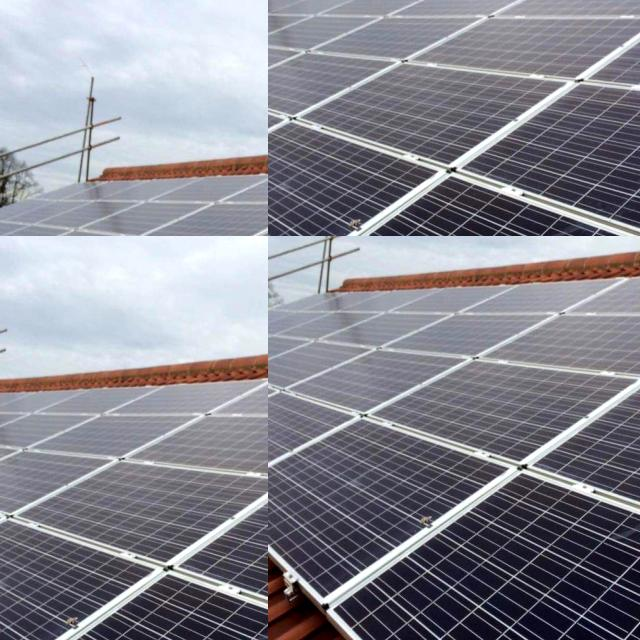crack: (309, 373, 640, 640), (268, 374, 531, 640), (268, 78, 640, 236), (64, 313, 268, 538), (367, 329, 640, 475), (94, 411, 268, 640), (0, 405, 123, 640), (525, 332, 640, 575), (275, 334, 482, 434), (486, 284, 640, 390)
shadow: (15, 28, 70, 89)
